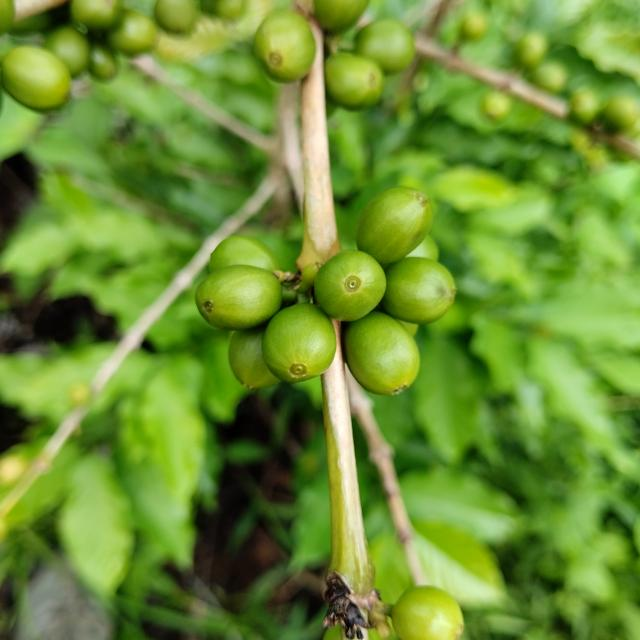green: (344, 311, 420, 395), (356, 186, 433, 265), (262, 303, 336, 383), (195, 265, 282, 330), (315, 250, 386, 321), (382, 257, 456, 324), (0, 45, 70, 111), (254, 10, 316, 82), (392, 587, 465, 640), (325, 52, 384, 109), (228, 325, 280, 389), (209, 235, 279, 272), (406, 236, 439, 261)
